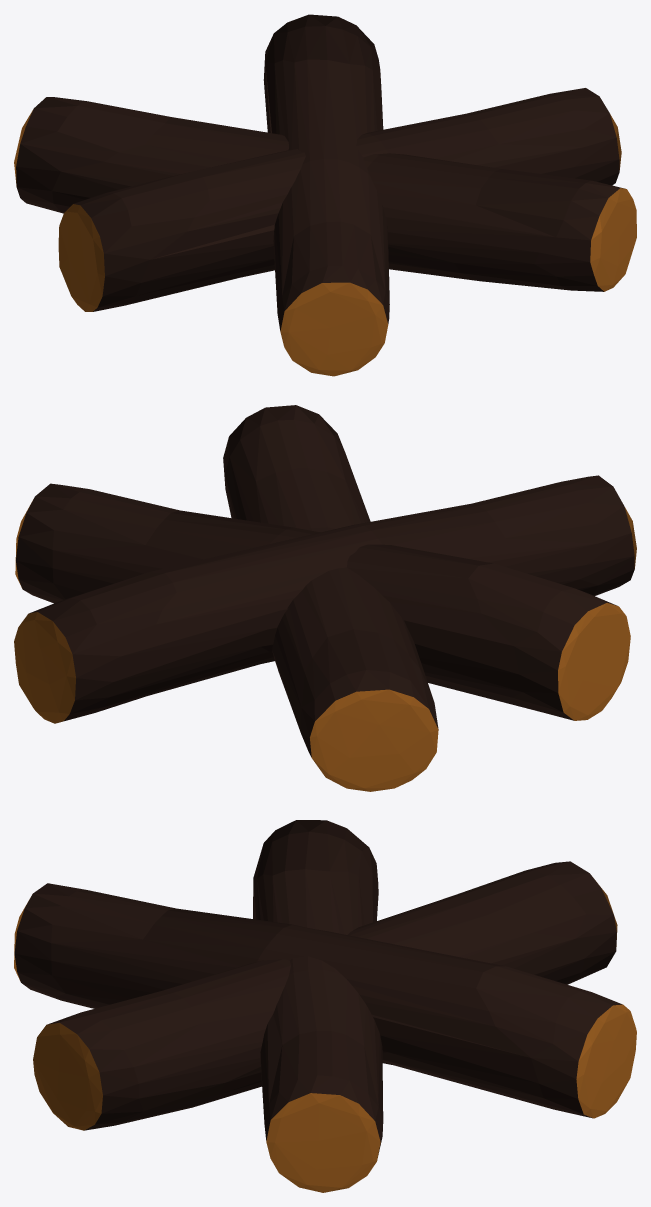
The model's file is Campfire.obj.
3 views of the same model, one above another, from view 1: azimuth 30°, elevation 25°; view 2: azimuth 150°, elevation 25°; view 3: azimuth 270°, elevation 25° (orthographic). The views are drawn at different scales.
Parts seen in each view (by area): view 1: Cylinder.001, Cylinder.003, Cylinder.002; view 2: Cylinder.002, Cylinder.003, Cylinder.001; view 3: Cylinder.002, Cylinder.001, Cylinder.003.
Part boxes in pixels (x1,y1,x2,y2): Cylinder.001: (14,97,636,291); Cylinder.003: (58,88,621,311); Cylinder.002: (263,14,389,376); Cylinder.002: (14,475,636,723); Cylinder.003: (15,483,630,720); Cylinder.001: (223,405,438,791); Cylinder.002: (14,883,636,1118); Cylinder.001: (33,861,617,1130); Cylinder.003: (253,820,383,1192).
Size of the model in its own units: 1.12 by 0.2518 by 1.09.
